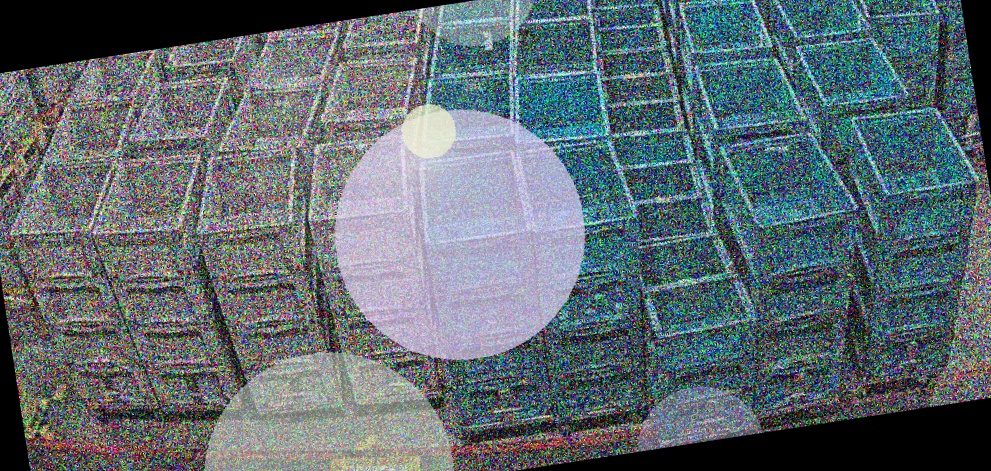4G: (80, 144, 247, 423), (183, 141, 347, 422), (0, 150, 161, 428), (295, 130, 447, 412)
B4: (703, 124, 889, 416), (817, 101, 991, 385), (513, 132, 669, 421), (412, 145, 562, 432), (846, 0, 957, 117)
B8: (622, 228, 775, 444)
